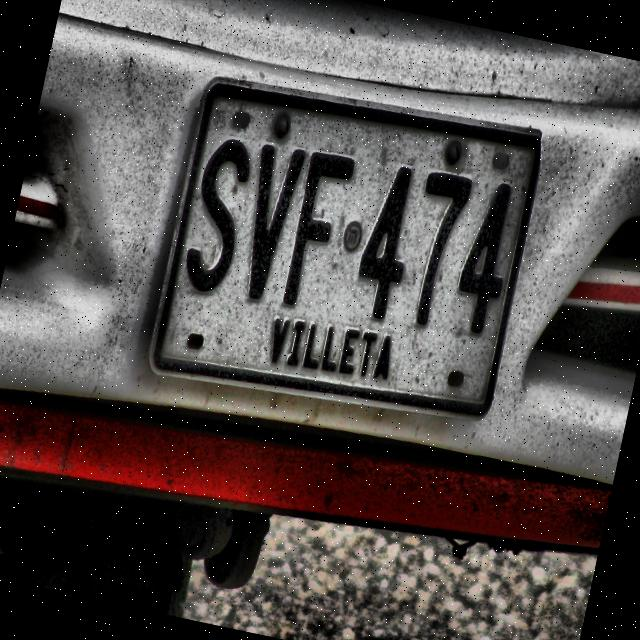4: (447, 174, 527, 343), (347, 160, 428, 324)
7: (393, 165, 479, 338)
F: (276, 145, 360, 320)
S: (177, 130, 260, 298)
V: (225, 140, 308, 312)
